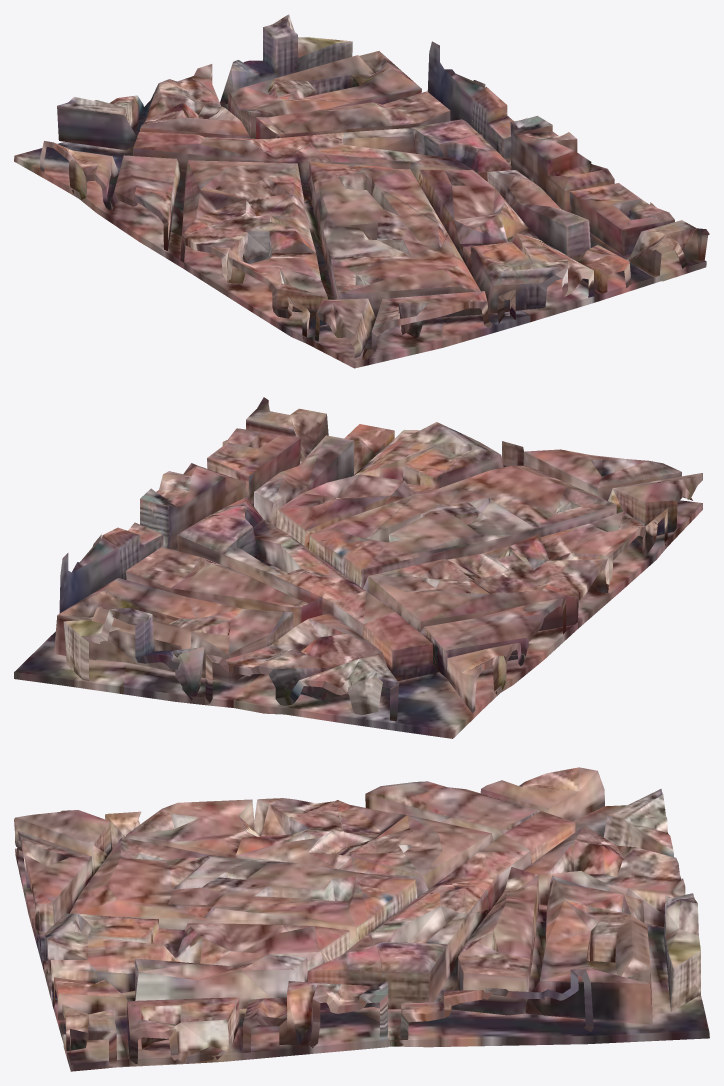
The picture shows the model from 3 angles, top to bottom: view 1: azimuth 30°, elevation 25°; view 2: azimuth 150°, elevation 25°; view 3: azimuth 270°, elevation 25°; orthographic projection. The views are drawn at different scales.
Parts seen in each view (by area): view 1: Mesh_0; view 2: Mesh_0; view 3: Mesh_0.
Part boxes in pixels (bbox=[...]): Mesh_0: bbox=[14, 14, 709, 368]; Mesh_0: bbox=[14, 397, 702, 738]; Mesh_0: bbox=[14, 767, 709, 1071].
Size of the model in its own units: 269 by 48.6 by 330.
Materials: 2 (2 with a texture image).
